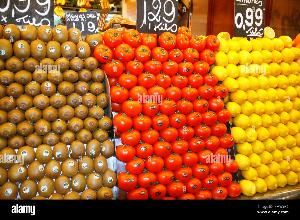kiwi: (0, 18, 110, 200)
lemon: (212, 32, 300, 196)
tomato: (101, 23, 240, 198)
